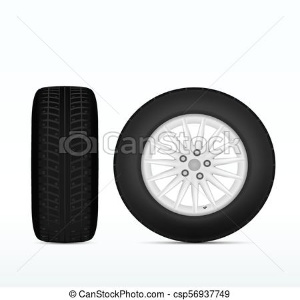tire: (114, 82, 279, 242), (29, 88, 101, 240)
